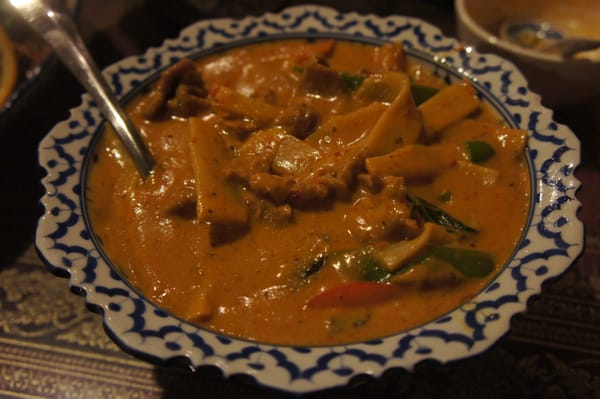salad: (2, 1, 157, 177)
sushi: (454, 0, 600, 110)
